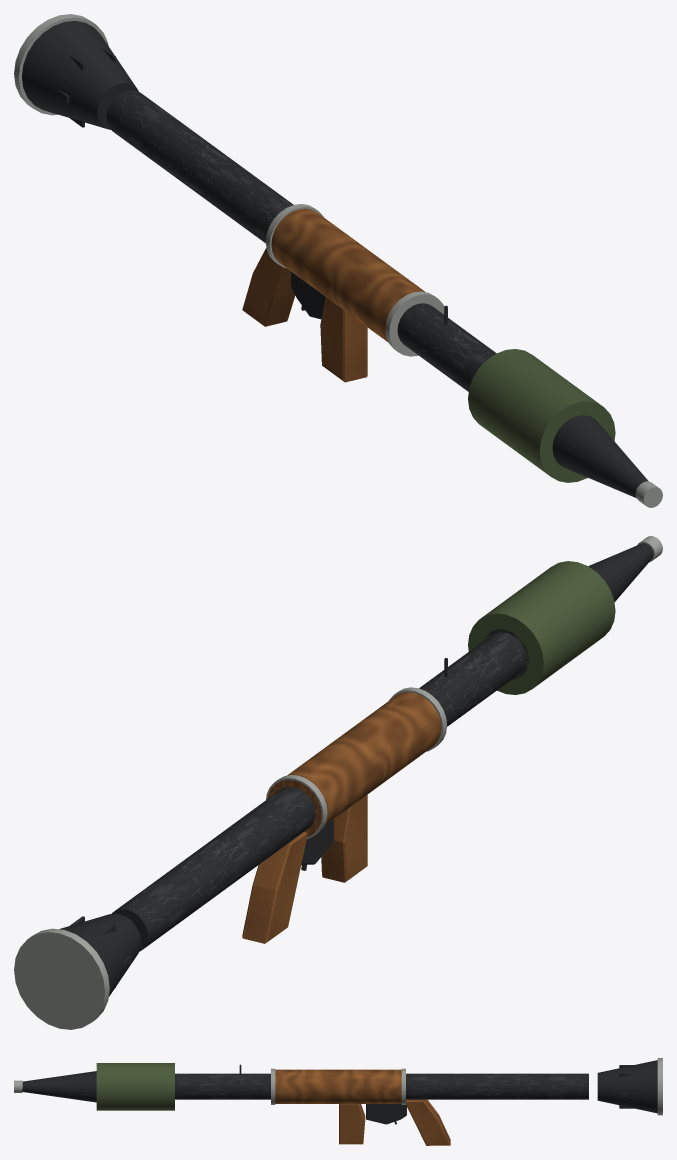
File: 12-lance-roquettes.glb
The picture shows the model from 3 angles, top to bottom: view 1: azimuth 30°, elevation 25°; view 2: azimuth 150°, elevation 25°; view 3: azimuth 270°, elevation 25°; orthographic projection. The views are drawn at different scales.
Bounding box in the file's own units: 0.132 × 0.2082 × 1.49.
Materials: 6 (2 with a texture image).
